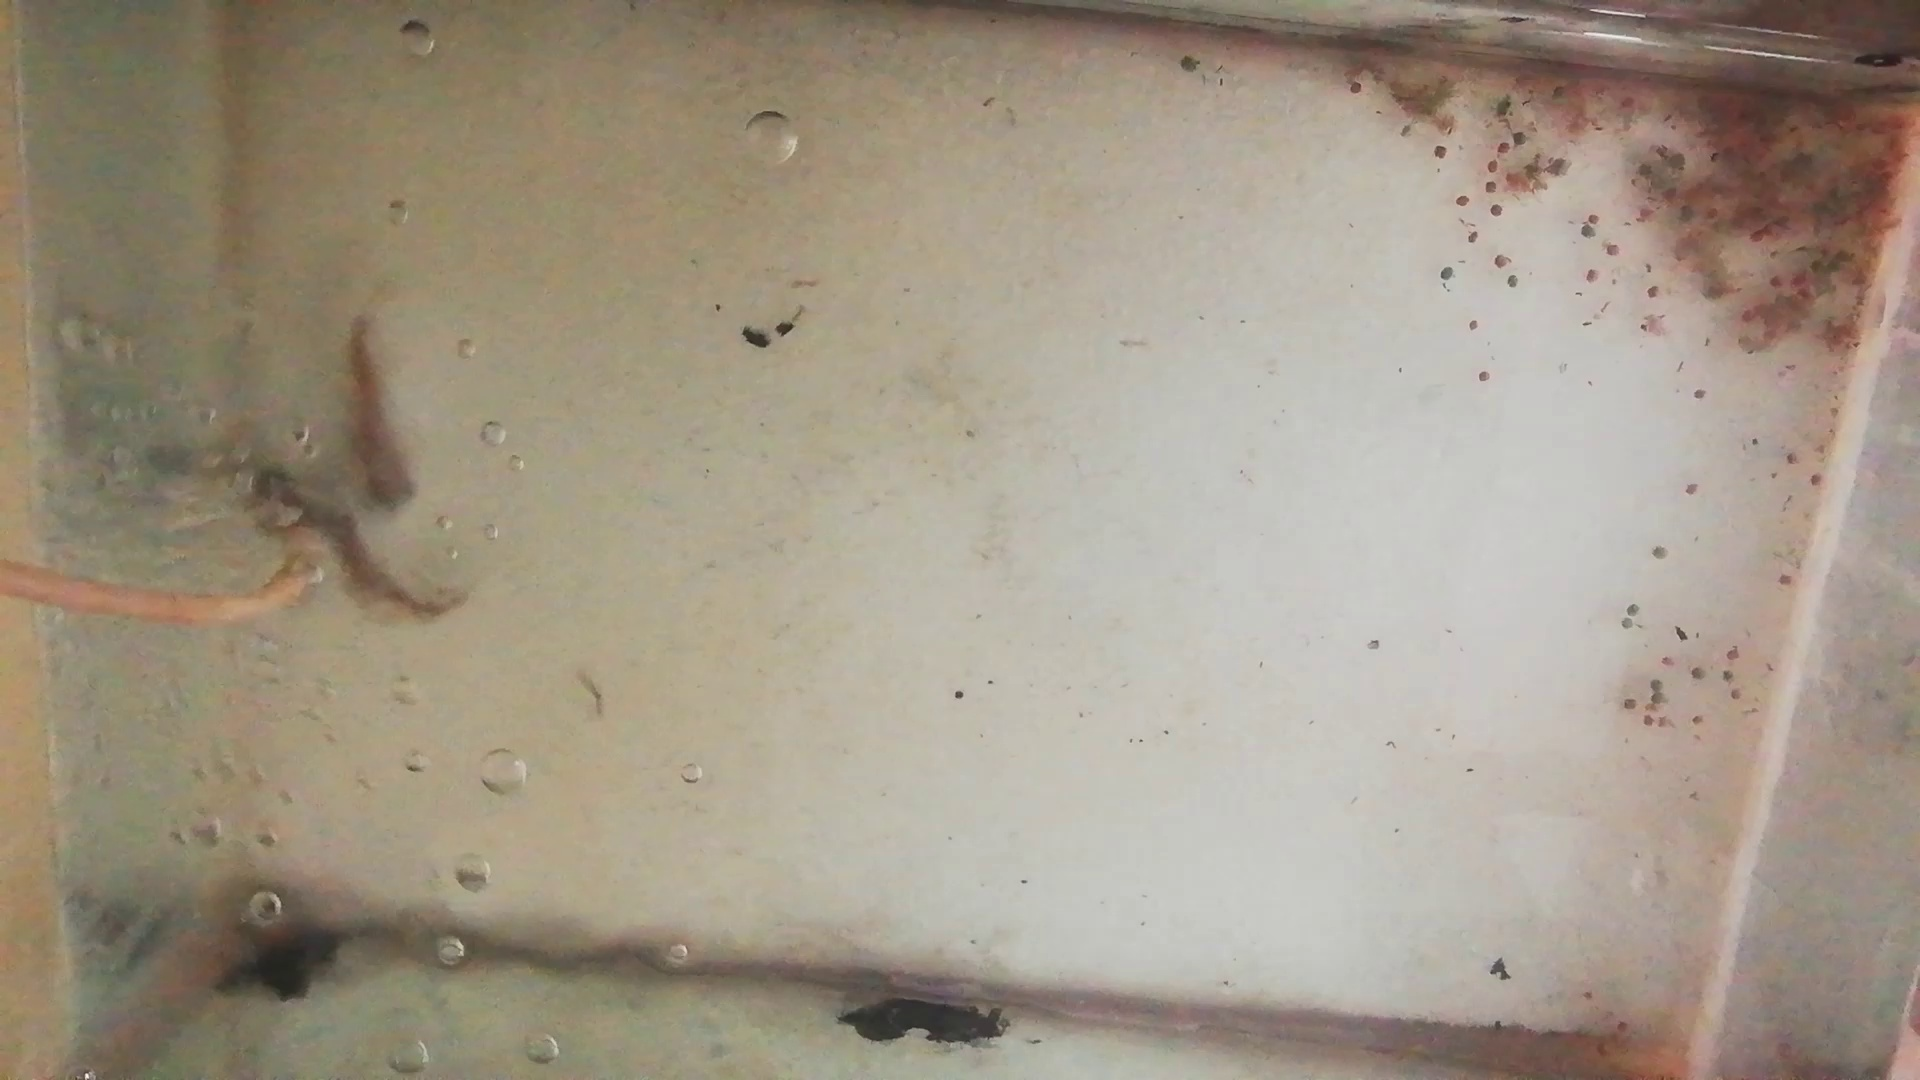fish: (251, 472, 459, 624), (347, 311, 423, 512)
